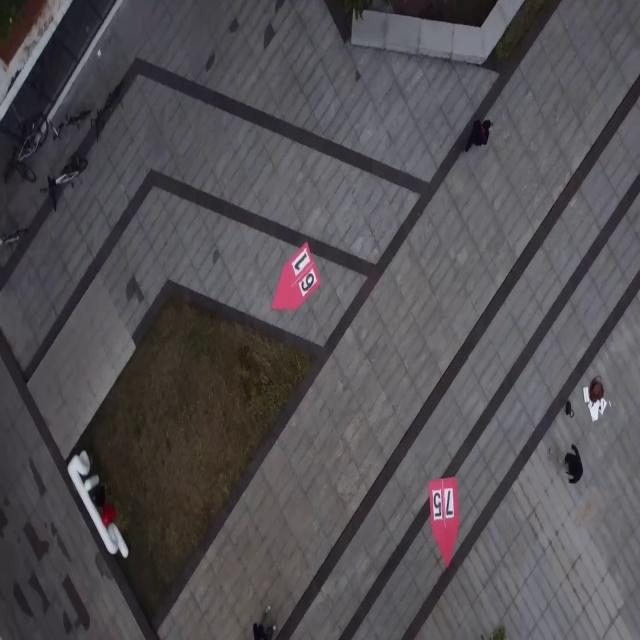-sign-: (270, 240, 320, 312), (428, 475, 460, 569)
